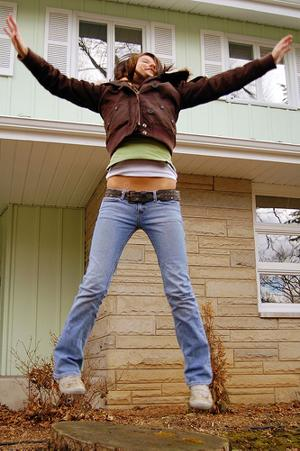person: (5, 9, 295, 412)
